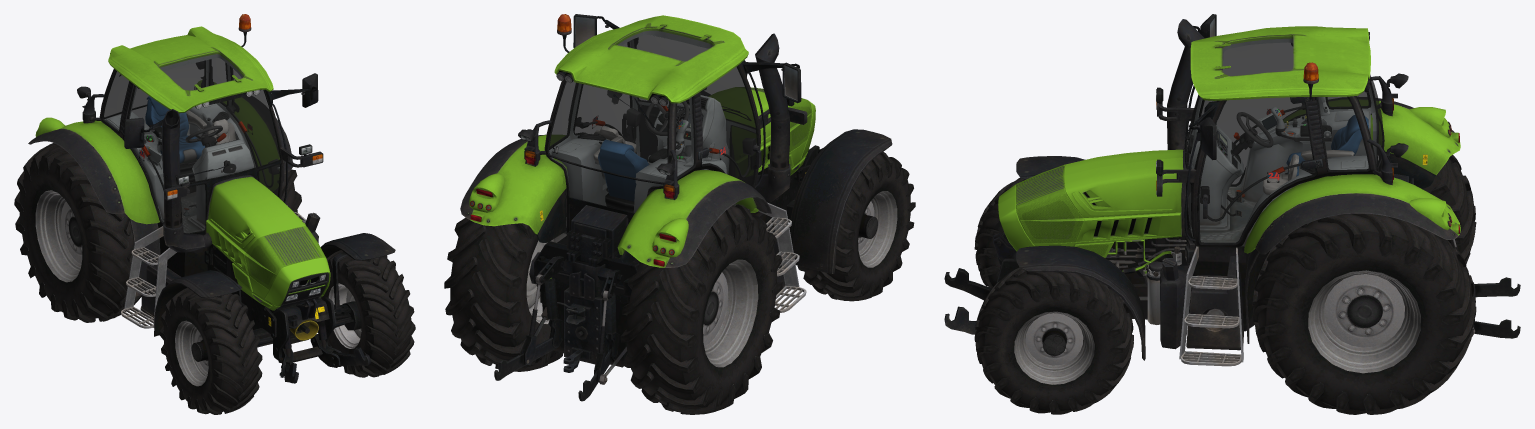
The model's file is traktor.glb.
The picture shows the model from 3 angles, left to right: view 1: azimuth 30°, elevation 25°; view 2: azimuth 150°, elevation 25°; view 3: azimuth 270°, elevation 25°; orthographic projection. The views are drawn at different scales.
Parts seen in each view (by area): view 1: lamborghini_BODY_Cuz_0, WHEEL_RR_Shin_0, WINDOW_Lob_0, WHEEL_RF_Shin_0, lamborghini_COCKPIT_Salon_0, WHEEL_LF_Shin_0, WINDOW_IN_in_win_0, SUSP_LF_Cuz_0, SUSP_RF_Cuz_0, LIGHT_Cuz_0, WHEEL_LR_Shin_0; view 2: lamborghini_BODY_Cuz_0, WHEEL_RR_Shin_0, WINDOW_Lob_0, WHEEL_LR_Shin_0, lamborghini_COCKPIT_Salon_0, WHEEL_RF_Shin_0, SUSP_RF_Cuz_0, WINDOW_IN_in_win_0, STEER_HR_Salon_0, MIRROR_L_MIRROR_0; view 3: lamborghini_BODY_Cuz_0, WHEEL_LR_Shin_0, WHEEL_LF_Shin_0, WINDOW_Lob_0, lamborghini_COCKPIT_Salon_0, SUSP_LF_Cuz_0, WINDOW_IN_in_win_0, WHEEL_RR_Shin_0, WHEEL_RF_Shin_0, SUSP_RF_Cuz_0, STEER_HR_Salon_0.
Part boxes in pixels (x1,y1,x2,y2): lamborghini_BODY_Cuz_0: (28, 26, 371, 383); WHEEL_RR_Shin_0: (14, 143, 141, 322); WINDOW_Lob_0: (104, 52, 279, 233); WHEEL_RF_Shin_0: (159, 287, 262, 414); lamborghini_COCKPIT_Salon_0: (104, 54, 279, 233); WHEEL_LF_Shin_0: (321, 250, 415, 377); WINDOW_IN_in_win_0: (104, 58, 279, 166); SUSP_LF_Cuz_0: (320, 233, 395, 330); SUSP_RF_Cuz_0: (154, 270, 241, 336); LIGHT_Cuz_0: (167, 90, 325, 300); WHEEL_LR_Shin_0: (280, 169, 302, 220); lamborghini_BODY_Cuz_0: (460, 14, 819, 401); WHEEL_RR_Shin_0: (620, 204, 783, 414); WINDOW_Lob_0: (549, 28, 757, 212); WHEEL_LR_Shin_0: (444, 188, 566, 371); lamborghini_COCKPIT_Salon_0: (549, 30, 756, 233); WHEEL_RF_Shin_0: (797, 151, 915, 301); SUSP_RF_Cuz_0: (789, 129, 892, 273); WINDOW_IN_in_win_0: (550, 35, 755, 184); STEER_HR_Salon_0: (645, 98, 689, 135); MIRROR_L_MIRROR_0: (575, 17, 594, 46); lamborghini_BODY_Cuz_0: (944, 14, 1520, 366); WHEEL_LR_Shin_0: (1252, 213, 1476, 414); WHEEL_LF_Shin_0: (974, 267, 1133, 414); WINDOW_Lob_0: (1187, 36, 1384, 242); lamborghini_COCKPIT_Salon_0: (1187, 38, 1377, 246); SUSP_LF_Cuz_0: (1016, 245, 1145, 360); WINDOW_IN_in_win_0: (1188, 43, 1381, 184); WHEEL_RR_Shin_0: (1423, 155, 1476, 263); WHEEL_RF_Shin_0: (974, 177, 1024, 288); SUSP_RF_Cuz_0: (1016, 156, 1085, 179); STEER_HR_Salon_0: (1236, 112, 1273, 147).
Size of the model in its own units: 2.53 by 3.3 by 5.07.
Materials: 7 (7 with a texture image).
